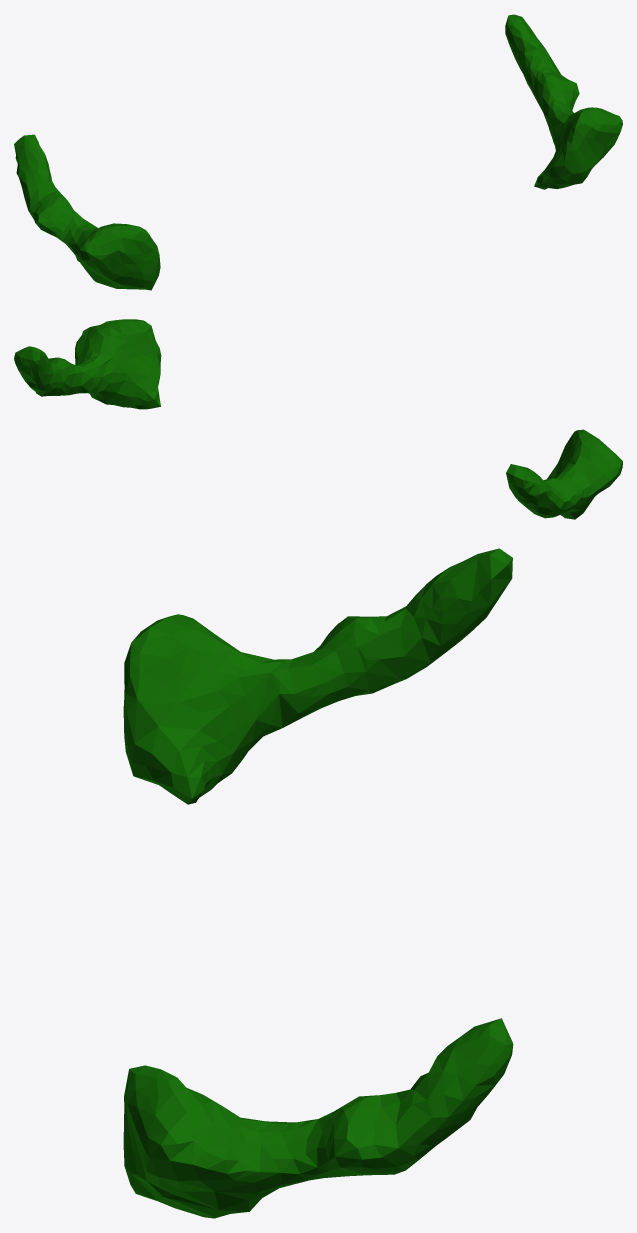
File: 150-IPro-insular proisocortex-('0.0745', '0.4980', '0.0000').obj
The picture shows the model from 3 angles, top to bottom: view 1: azimuth 30°, elevation 25°; view 2: azimuth 150°, elevation 25°; view 3: azimuth 270°, elevation 25°; orthographic projection. The views are drawn at different scales.
Bounding box in the file's own units: 254 × 48.21 × 78.91.
